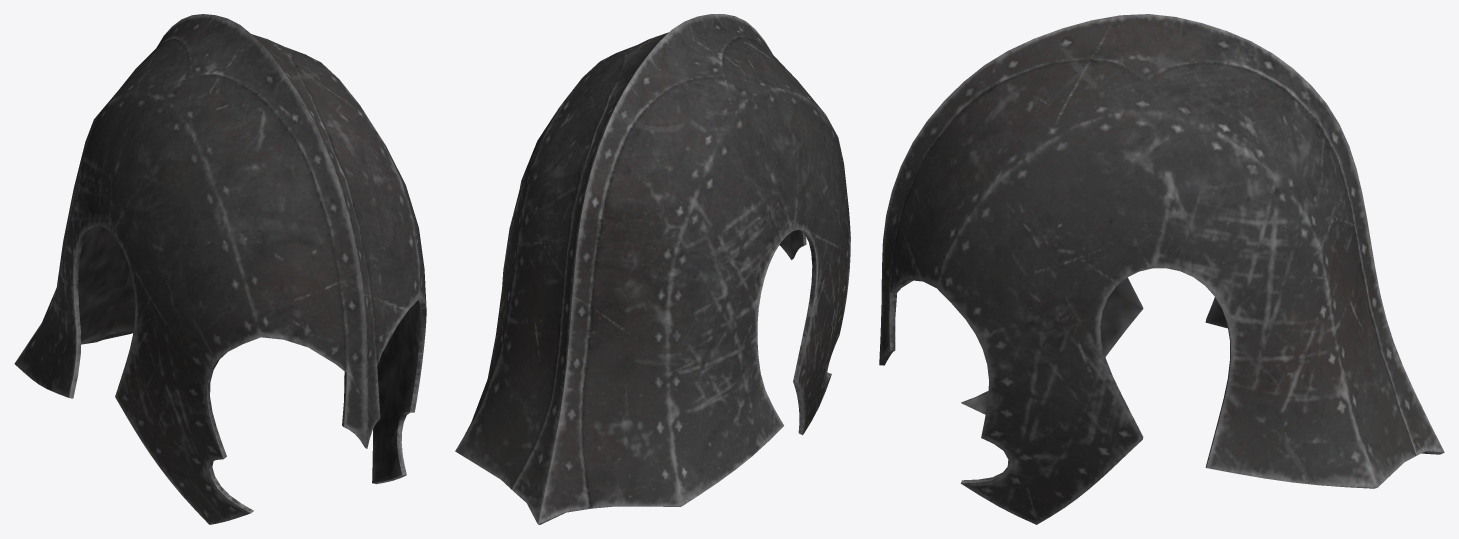
File: sk_uruk_mordor_helmet_medium_a2.fbx
3 renders of one model, left to right at view 1: azimuth 30°, elevation 25°; view 2: azimuth 150°, elevation 25°; view 3: azimuth 270°, elevation 25°, orthographic. The views are drawn at different scales.
Parts seen in each view (by area): view 1: sk_uruk_mordor_helmet_medium_a2; view 2: sk_uruk_mordor_helmet_medium_a2; view 3: sk_uruk_mordor_helmet_medium_a2.
Boxes of the visible parts, bbox=[...] form: sk_uruk_mordor_helmet_medium_a2: bbox=[14, 14, 426, 524]; sk_uruk_mordor_helmet_medium_a2: bbox=[455, 14, 850, 524]; sk_uruk_mordor_helmet_medium_a2: bbox=[879, 14, 1444, 524].
Bounding box in the file's own units: 0.197 × 0.3154 × 0.2878.
1 material, 1 textured.
